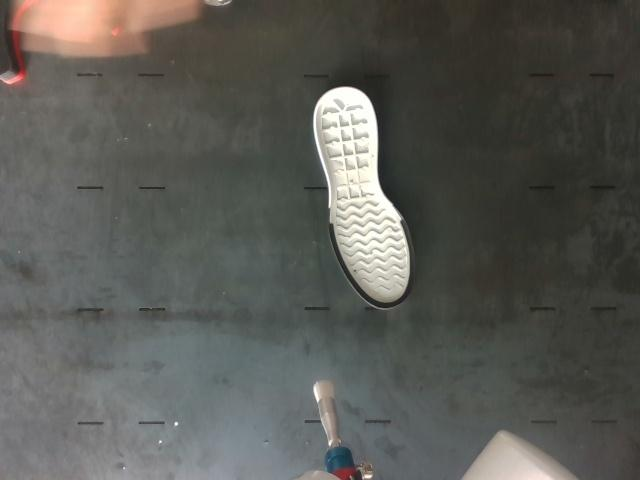shoes: (316, 88, 414, 308)
